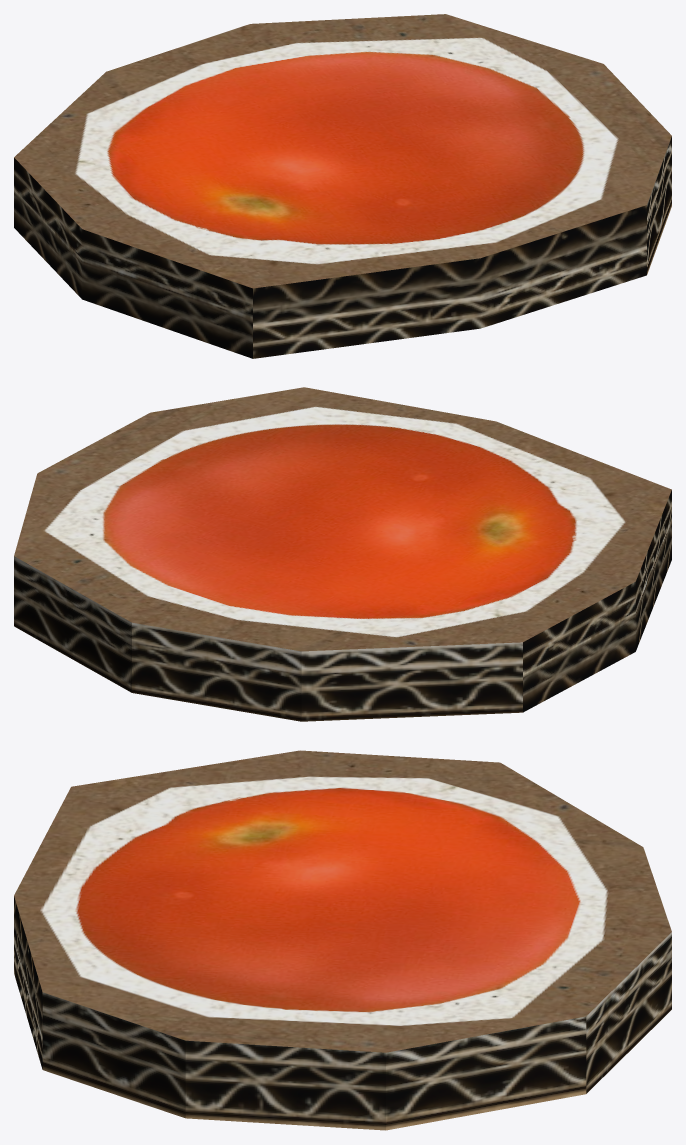
Rendered from Tomato.obj.
3 renders of one model, top to bottom at view 1: azimuth 30°, elevation 25°; view 2: azimuth 150°, elevation 25°; view 3: azimuth 270°, elevation 25°, orthographic. The views are drawn at different scales.
Visible parts, largest first — view 1: Plane; view 2: Plane; view 3: Plane.
Part boxes in pixels (x1,y1,x2,y2): Plane: (14,14,671,358); Plane: (14,387,671,721); Plane: (14,750,671,1130).
Bounding box in the file's own units: 2.5 × 0.3 × 2.3.
